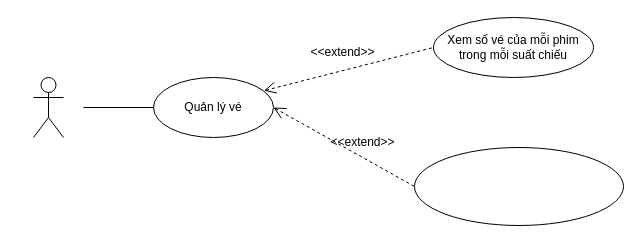
The diagram is 641 pixels wide and 243 high, and some of its shapes have lost their labels. Each missing label, with the centre of its shape:
"Quản lý rạp" goes at (48,107).
"Xem doanh thu của mỗi phim trong mỗi suất chiếu" goes at (519,186).
